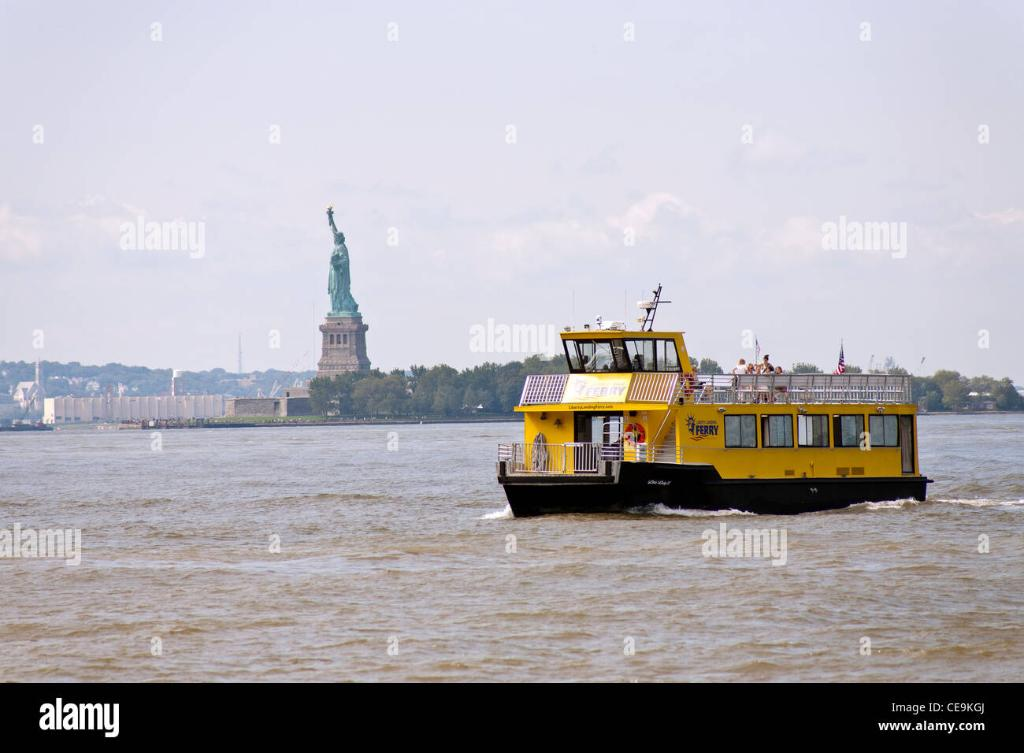PassengerShip: (488, 288, 928, 518)
